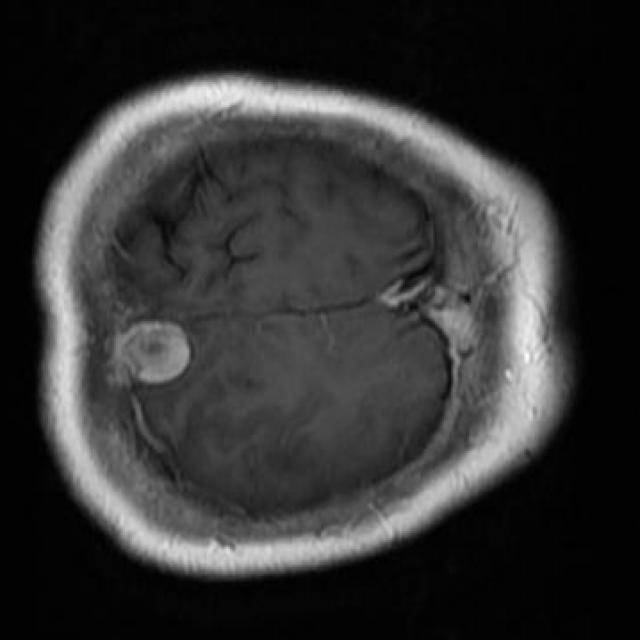glioma: (111, 321, 191, 385)
